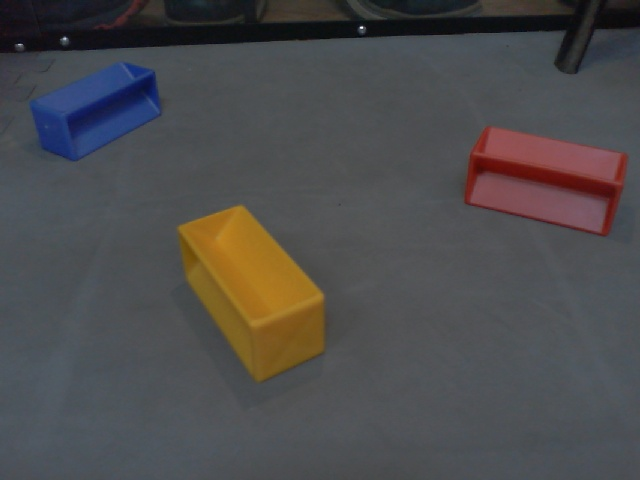BlueSample: (32, 61, 164, 162)
RedSample: (462, 126, 629, 241)
YellowSample: (175, 203, 329, 386)
